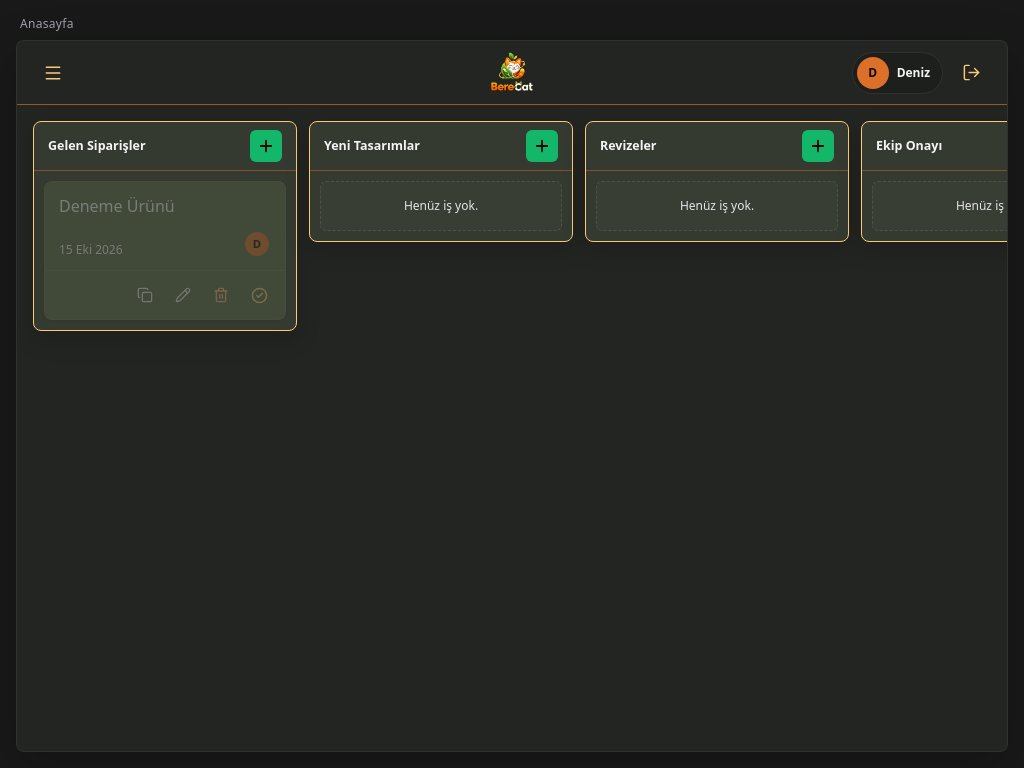
it: Phase 02A iş oluşturma akışı › firma ve ürün boşken Türkçe zorunlu alan hatası gösterir
Click the button named "Gelen Siparişler modülüne iş ekle".
click(266, 146)  # box [250,130,282,162]
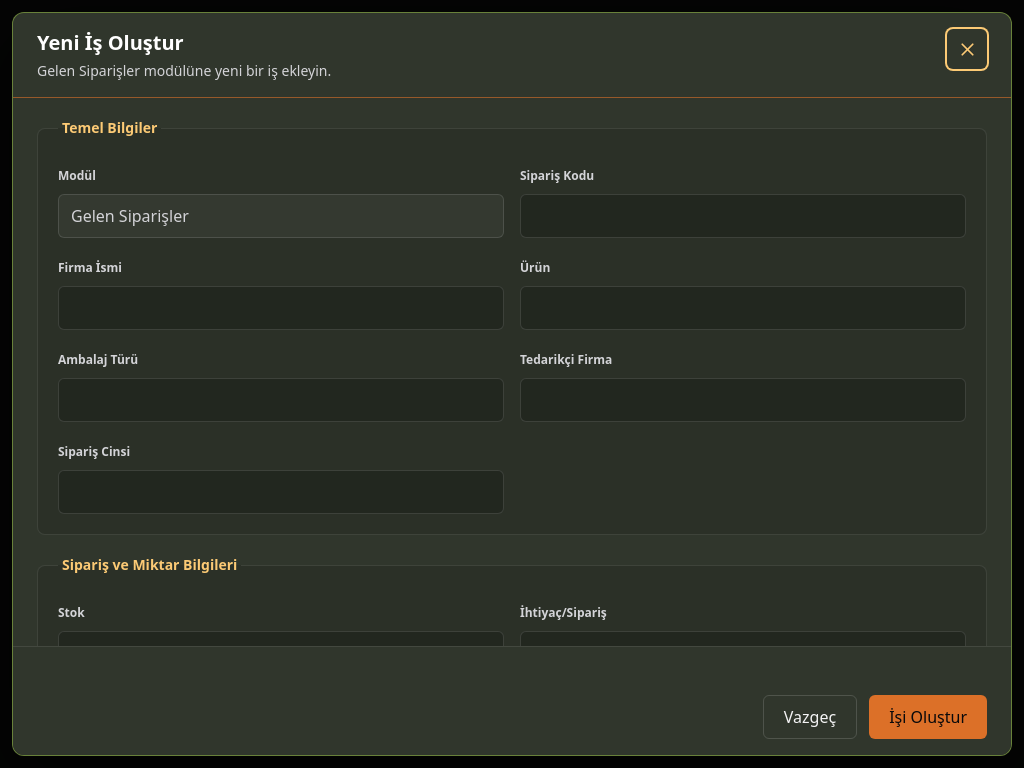
Click the button "İşi Oluştur".
click(928, 717)  # box [869,695,987,739]
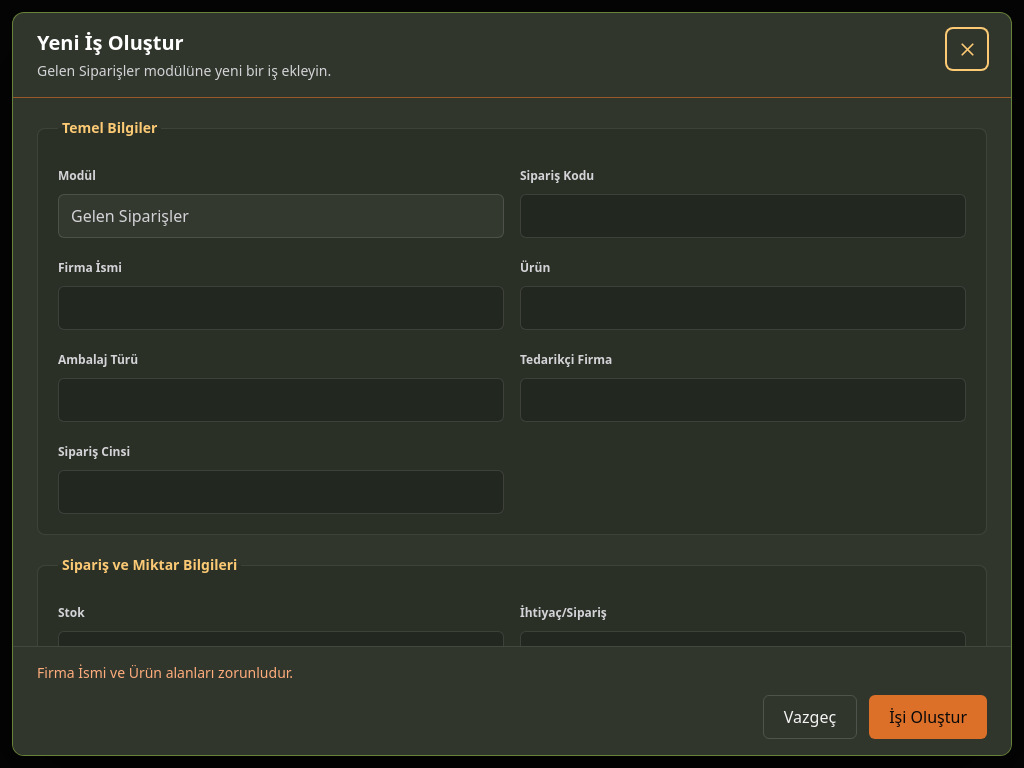
Now the message reads "Firma İsmi ve Ürün alanları zorunludur.", box [37,663,293,682]
